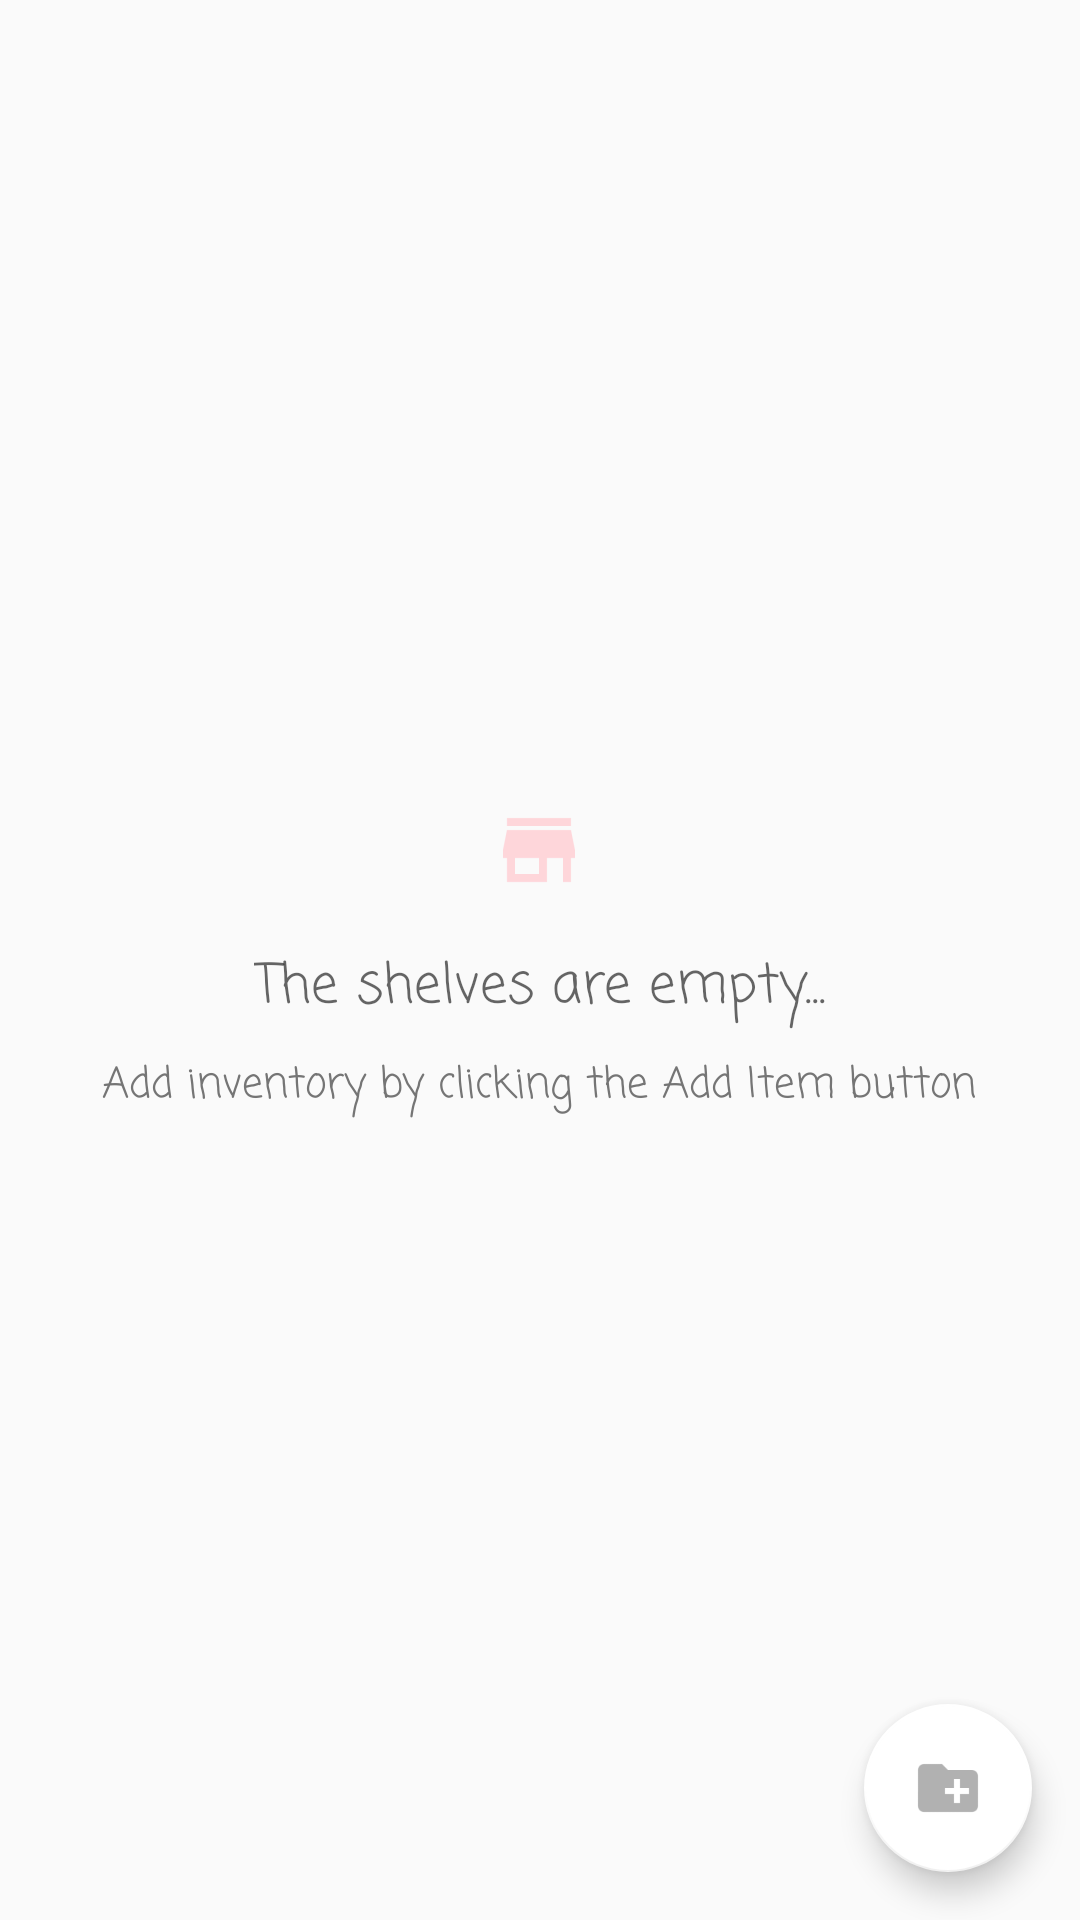

Icon bounding boxes for this 1080*1920 phone screenshot, format Rect(x1, y1, x2, y2):
clip art image of a store: Rect(503, 818, 575, 882)
create: Rect(918, 1764, 978, 1812)
